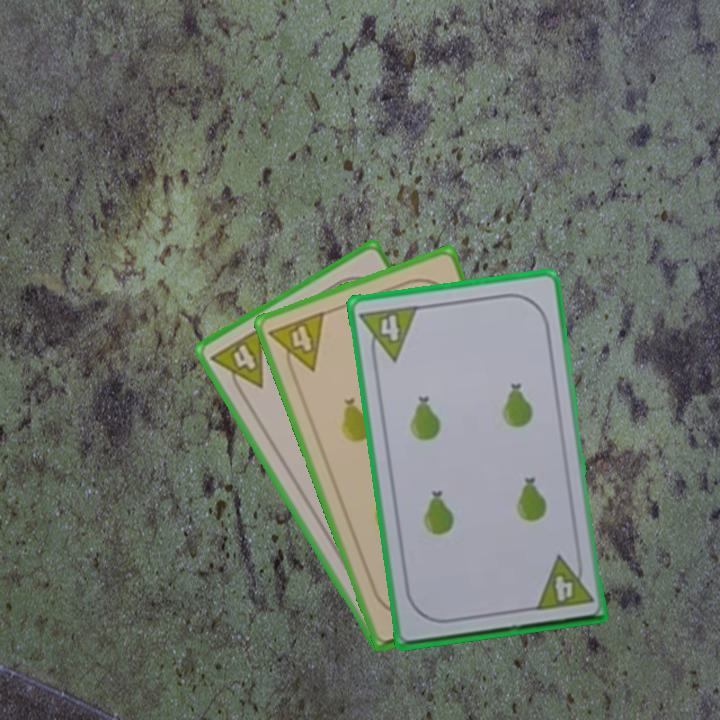4p: (207, 323, 267, 401), (265, 307, 328, 381), (356, 301, 421, 367), (531, 550, 596, 614)
